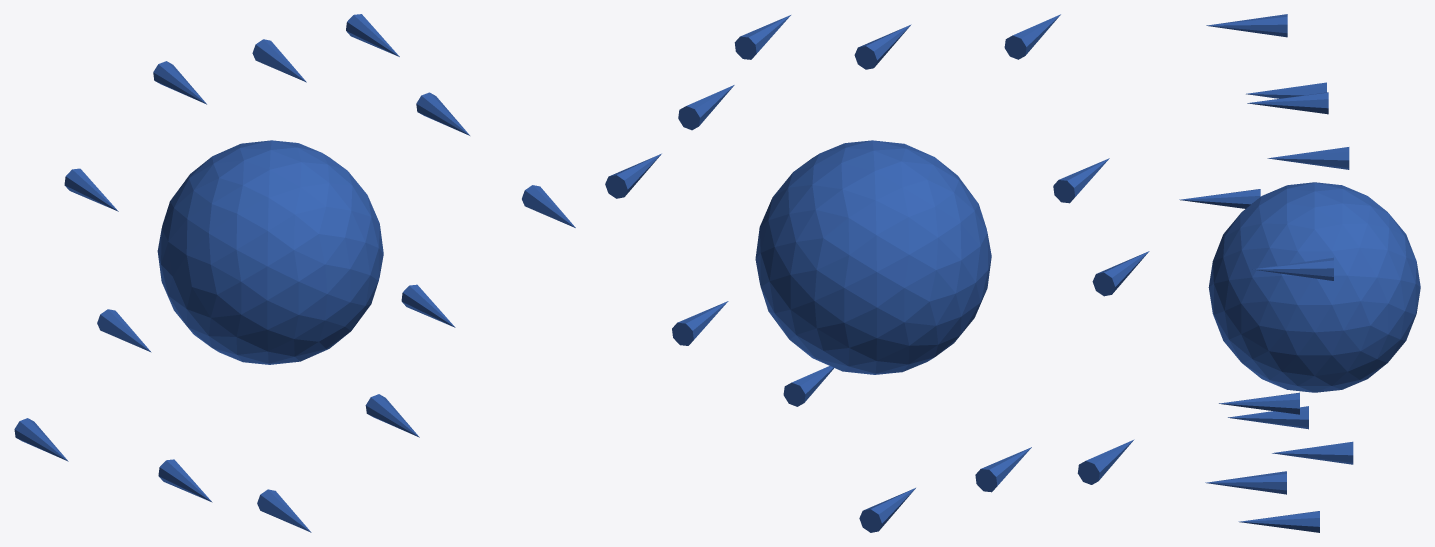
Rendered from sport_110.glb.
3 views of the same model, side by side, from view 1: azimuth 30°, elevation 25°; view 2: azimuth 150°, elevation 25°; view 3: azimuth 270°, elevation 25° (orthographic). The views are drawn at different scales.
Parts seen in each view (by area): view 1: world; view 2: world; view 3: world.
Part boxes in pixels (left/top/right/bottom): world: left=14, top=14, right=575, bottom=532; world: left=605, top=14, right=1149, bottom=532; world: left=1179, top=14, right=1420, bottom=532.
Size of the model in its own units: 2.3 by 2.16 by 1.03.
